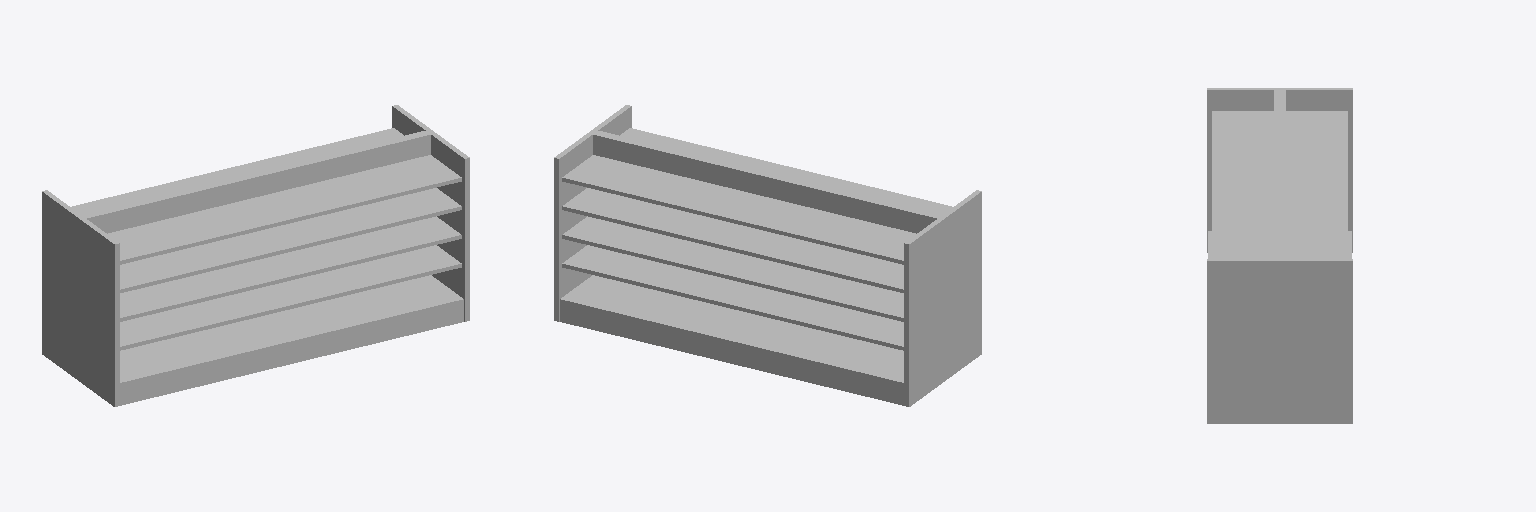
Rendered from estanteGrande.obj.
The picture shows the model from 3 angles: view 1: azimuth 30°, elevation 25°; view 2: azimuth 150°, elevation 25°; view 3: azimuth 270°, elevation 25°; orthographic projection.
Visible parts, largest first — view 1: polySurface1015; view 2: polySurface1015; view 3: polySurface1015.
Part boxes in pixels (x1,y1,x2,y2): polySurface1015: (42,105,469,406); polySurface1015: (554,105,981,406); polySurface1015: (1207,88,1352,423).
Bounding box in the file's own units: 14.65 × 6.41 × 5.19.